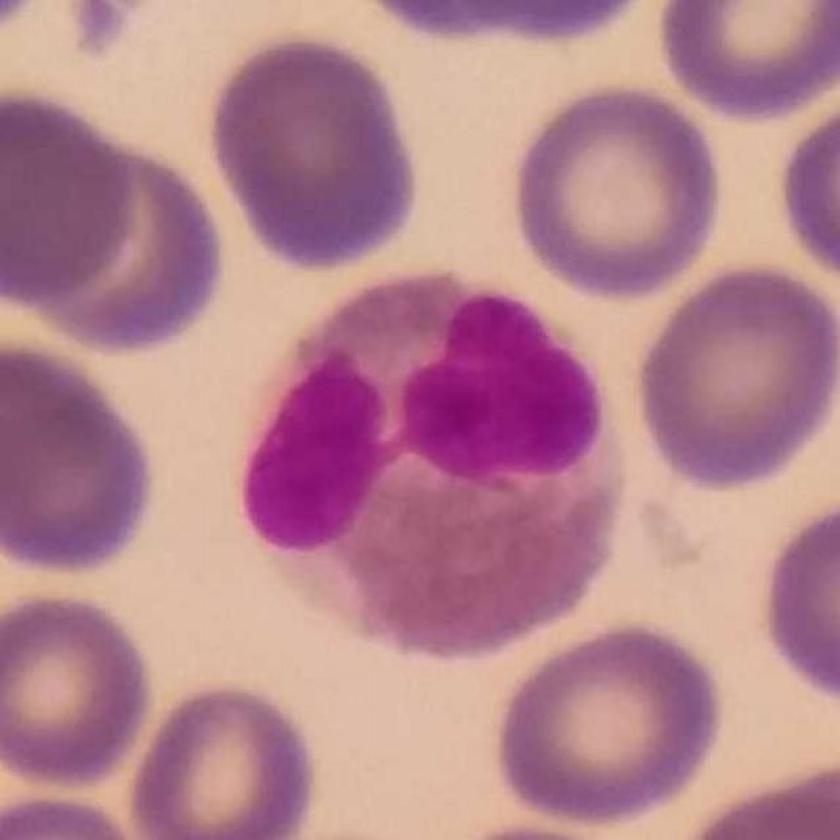eosinophil: (244, 263, 632, 667)
